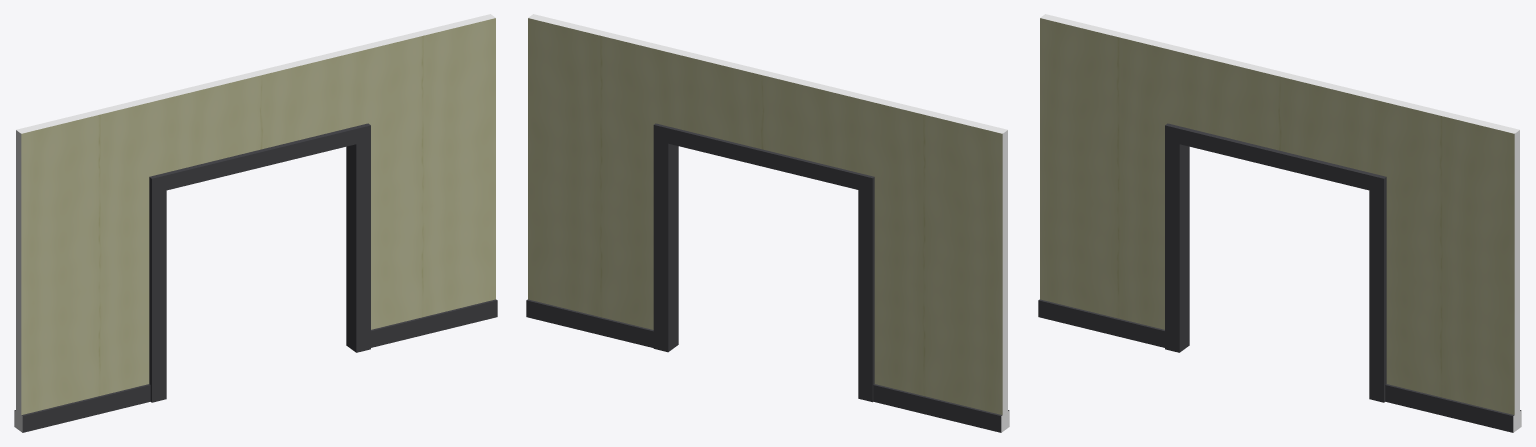
The model's file is SM_Buildings_WallDoorDouble_5x3_01_DoubleWallpaper.fbx.
The picture shows the model from 3 angles, left to right: view 1: azimuth 30°, elevation 25°; view 2: azimuth 150°, elevation 25°; view 3: azimuth 330°, elevation 25°; orthographic projection.
Parts seen in each view (by area): view 1: SM_Buildings_WallDoorDouble_5x3_01_DoubleWallpaper; view 2: SM_Buildings_WallDoorDouble_5x3_01_DoubleWallpaper; view 3: SM_Buildings_WallDoorDouble_5x3_01_DoubleWallpaper.
Boxes of the visible parts, x1,y1,x2,y2 form: SM_Buildings_WallDoorDouble_5x3_01_DoubleWallpaper: (14,14,497,432); SM_Buildings_WallDoorDouble_5x3_01_DoubleWallpaper: (526,14,1009,432); SM_Buildings_WallDoorDouble_5x3_01_DoubleWallpaper: (1038,14,1521,432).
Bounding box in the file's own units: 500 × 300 × 18.64.
1 material, 1 textured.
